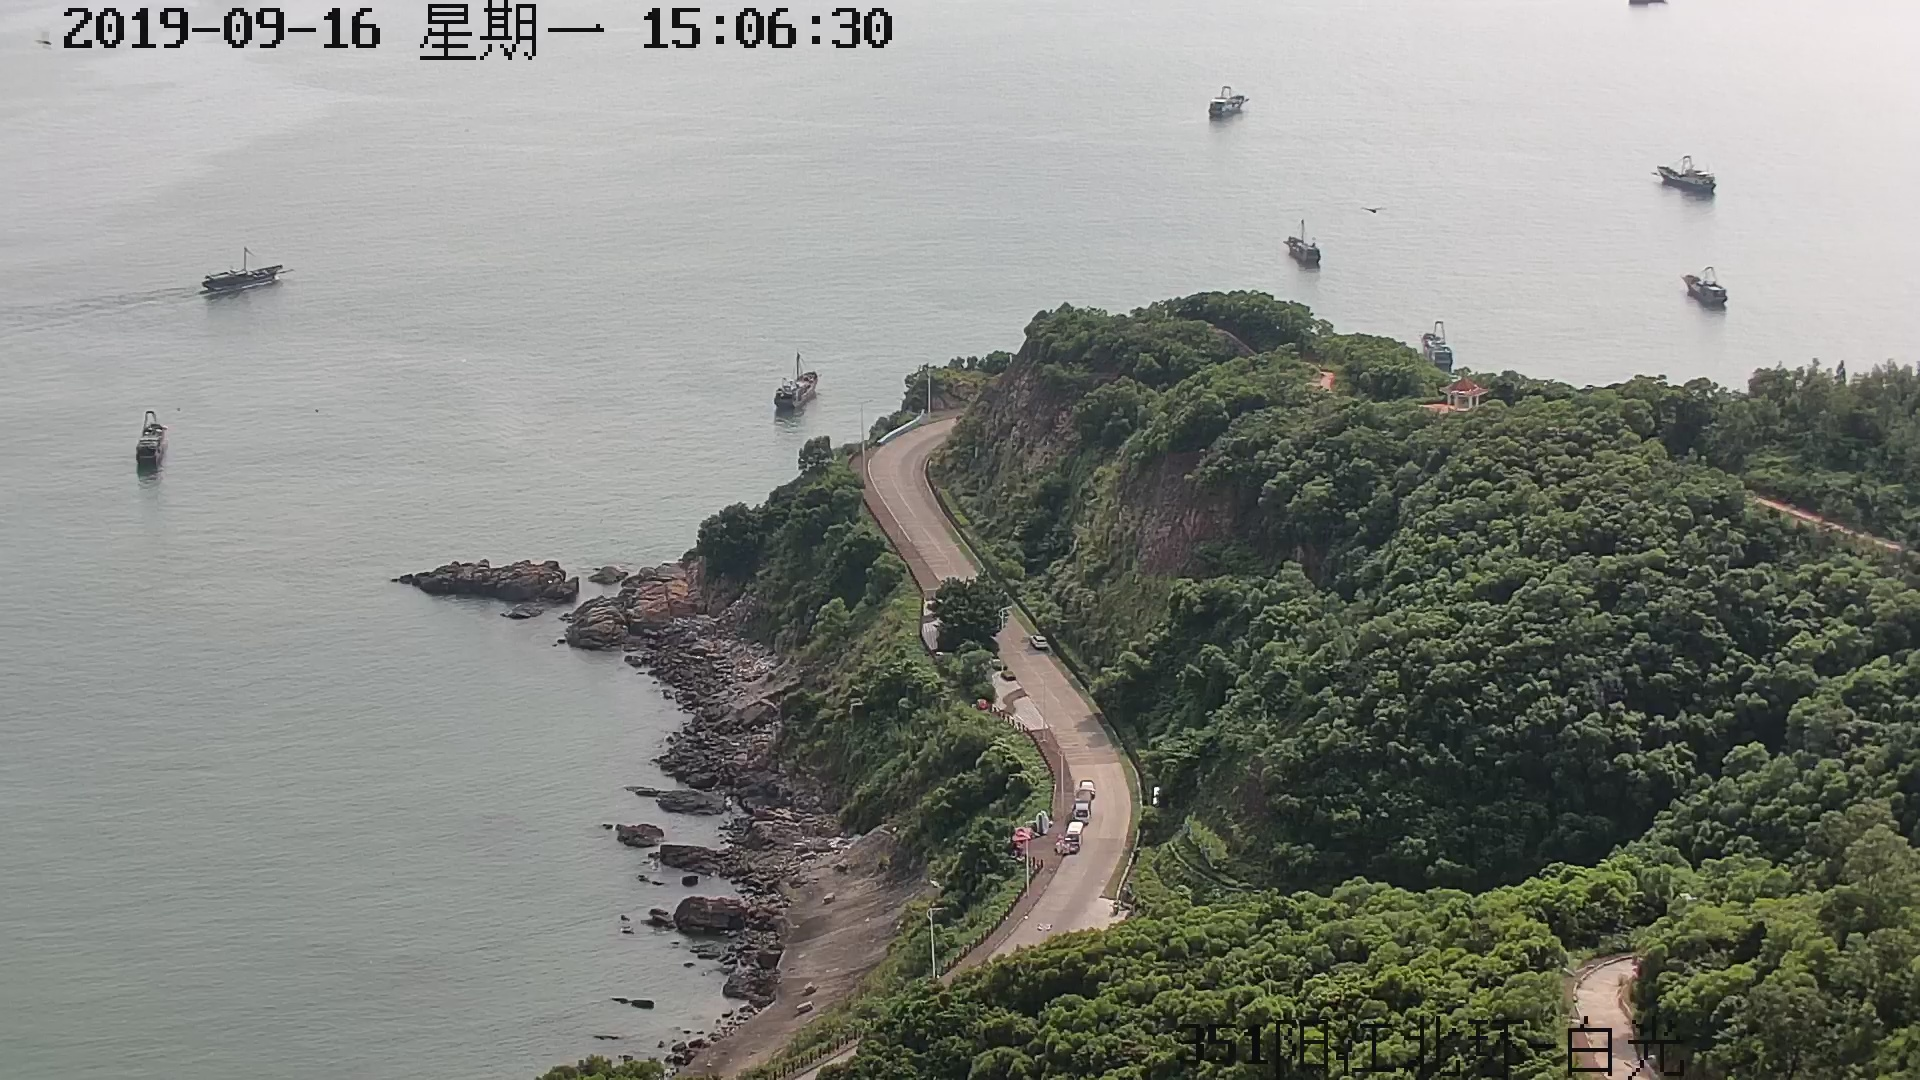ship: (200, 264, 287, 295), (1284, 222, 1323, 269), (774, 371, 822, 409), (1654, 164, 1716, 193), (1683, 270, 1727, 309), (138, 411, 167, 462), (1208, 87, 1247, 123)
